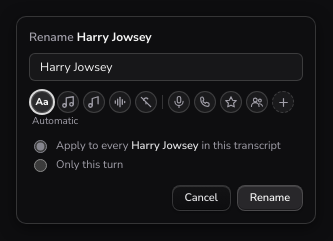
Test: the icon row › names an icon on hover, instantly and in one fixed place
Hover over the button titled "Music" at (68, 102), box [57,91,79,113]
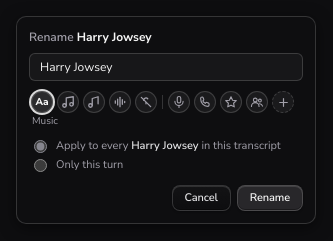
Expected: the text with class "cp-tx-rename-iconhint" reads "Music", [32,114,58,128]
Hover over the button titled "Sound effects" at (120, 102), box [109,91,131,113]
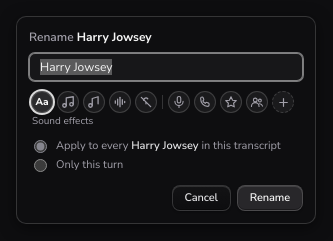
Expected: the text with class "cp-tx-rename-iconhint" reads "Sound effects", [32,114,93,128]
